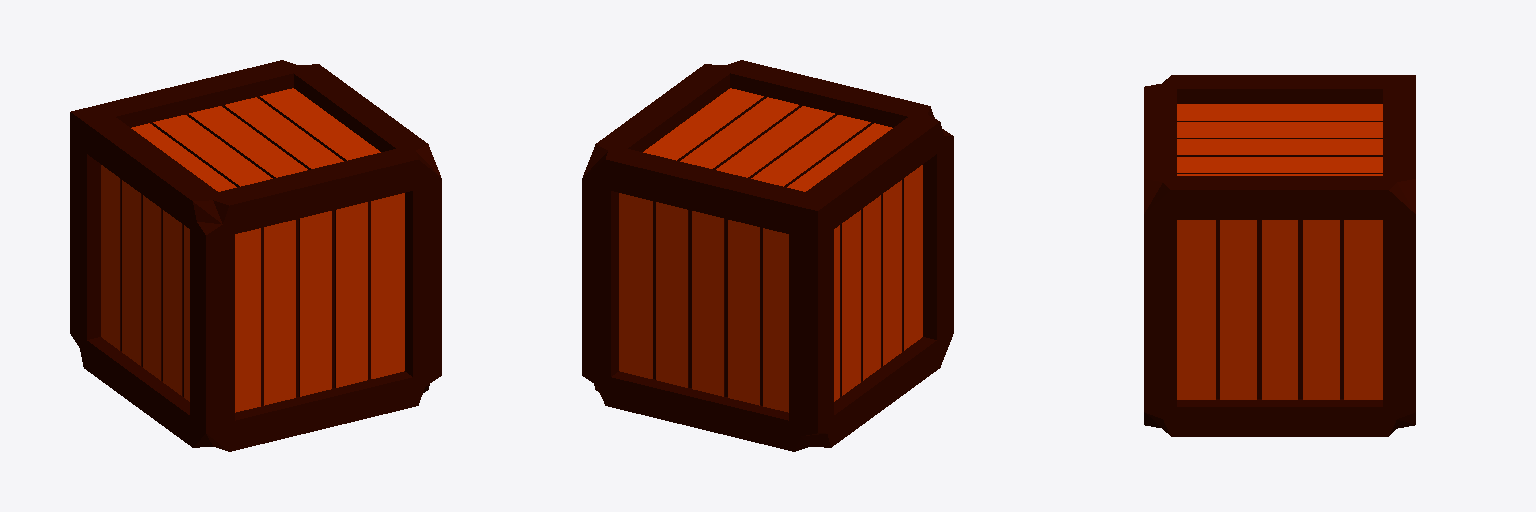
3 views of the same model, side by side, from view 1: azimuth 30°, elevation 25°; view 2: azimuth 150°, elevation 25°; view 3: azimuth 270°, elevation 25° (orthographic).
Parts seen in each view (by area): view 1: woodbox.004; view 2: woodbox.004; view 3: woodbox.004.
Part boxes in pixels (left/top/right/bottom): woodbox.004: left=70, top=60, right=441, bottom=451; woodbox.004: left=582, top=60, right=953, bottom=451; woodbox.004: left=1144, top=75, right=1415, bottom=436.
Bounding box in the file's own units: 0.9602 × 0.9602 × 0.9602.